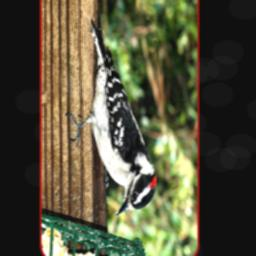Woodpecker: (63, 21, 157, 216)
